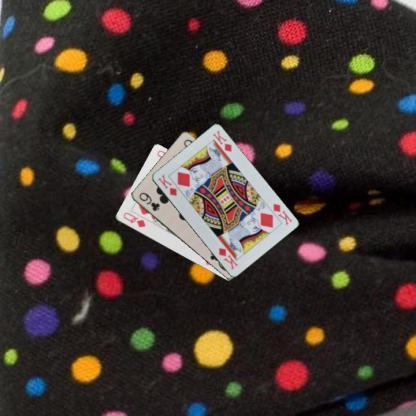9c: (136, 190, 161, 212)
Kd: (155, 172, 178, 197), (271, 201, 294, 226)
Qd: (120, 210, 147, 229)
